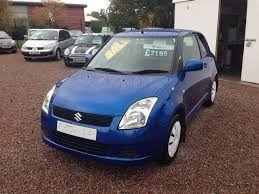Dent: (160, 96, 174, 118)
